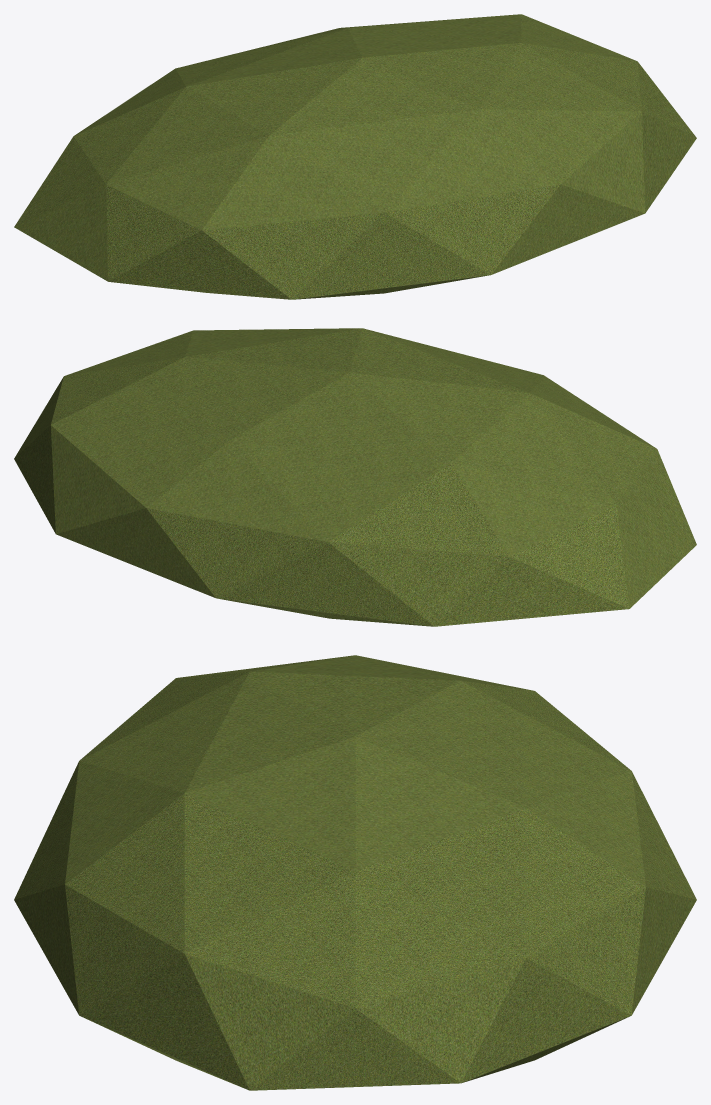
Rendered from WorldKit.fbx.
3 renders of one model, top to bottom at view 1: azimuth 30°, elevation 25°; view 2: azimuth 150°, elevation 25°; view 3: azimuth 270°, elevation 25°, orthographic. The views are drawn at different scales.
Visible parts, largest first — view 1: Hill; view 2: Hill; view 3: Hill.
Part boxes in pixels (x1,y1,x2,y2): Hill: (14, 14, 696, 299); Hill: (14, 328, 696, 626); Hill: (14, 655, 696, 1090).
Size of the model in its own units: 27.09 by 5.81 by 20.
